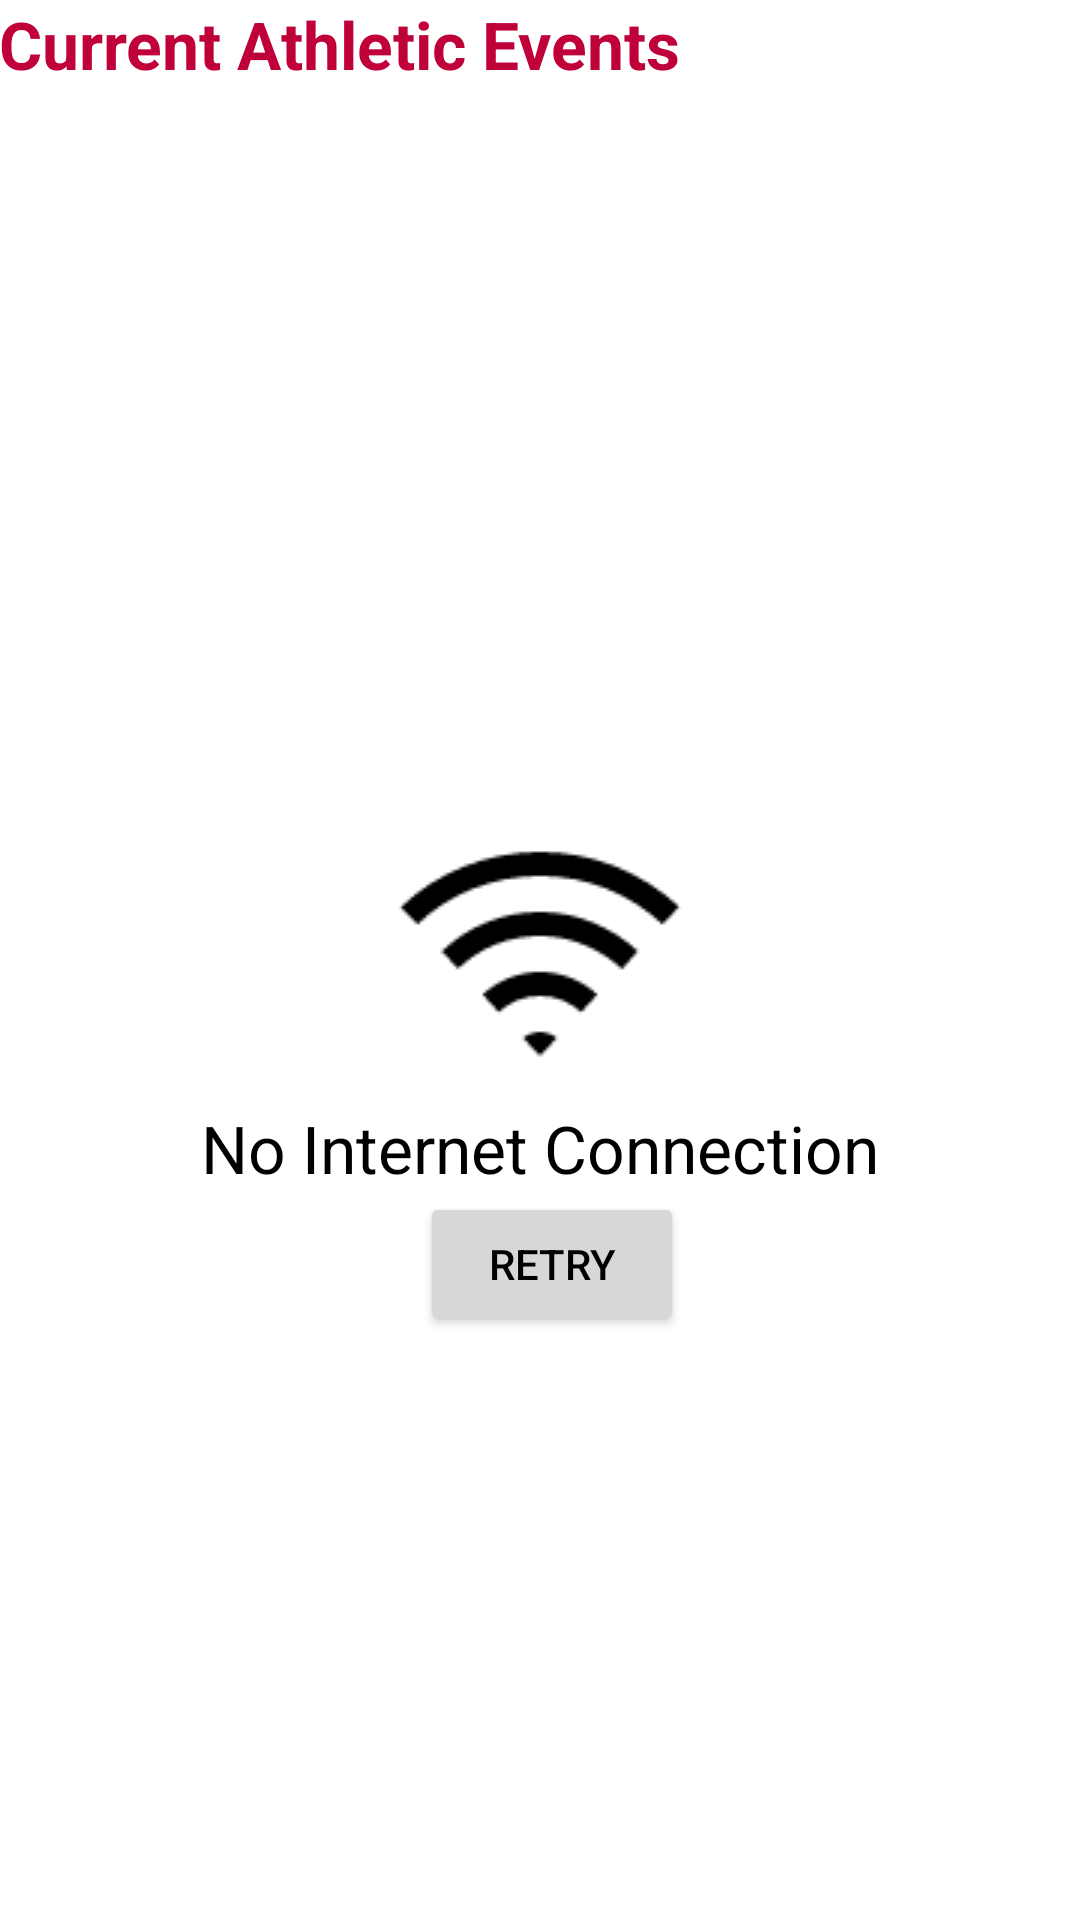

Named icons in this screenshot (1080w x 1920h) and their centers, point (x, y):
wifi: point (539, 954)
